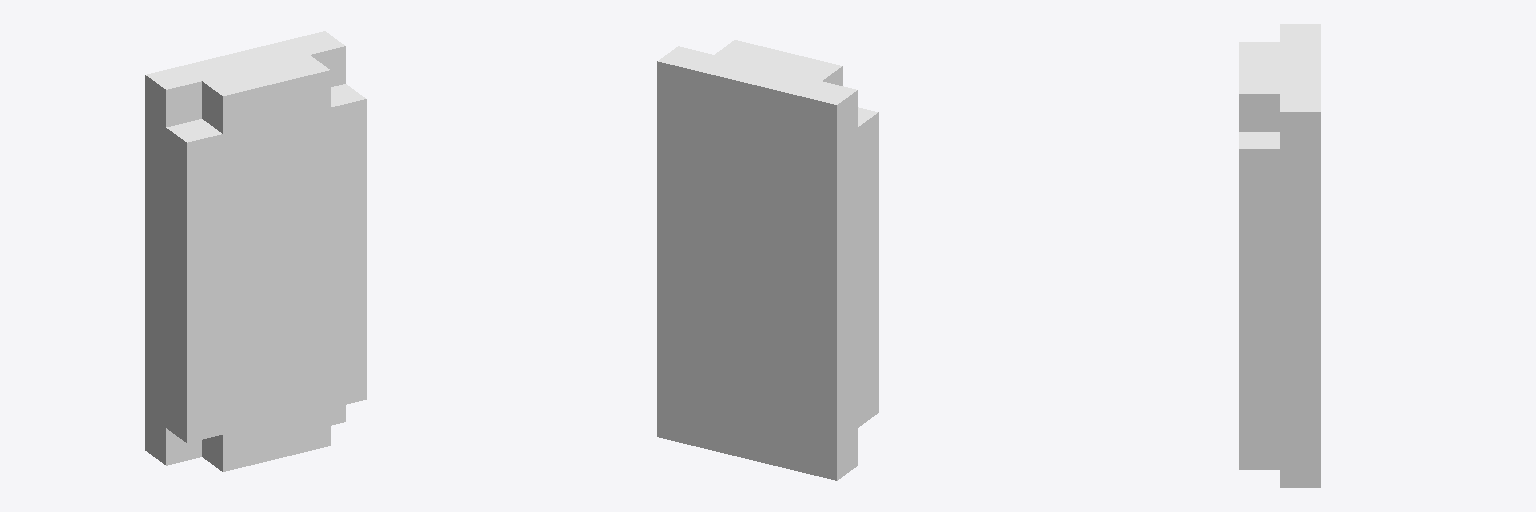
The model's file is ShitokBack.obj.
The picture shows the model from 3 angles: view 1: azimuth 30°, elevation 25°; view 2: azimuth 150°, elevation 25°; view 3: azimuth 270°, elevation 25°; orthographic projection.
Visible parts, largest first — view 1: object 1; view 2: object 1; view 3: object 1.
Part boxes in pixels (x1,y1,x2,y2): object 1: (145,31,366,471); object 1: (657,40,878,480); object 1: (1239,24,1320,487).
Bounding box in the file's own units: 0.5 × 1 × 0.2.